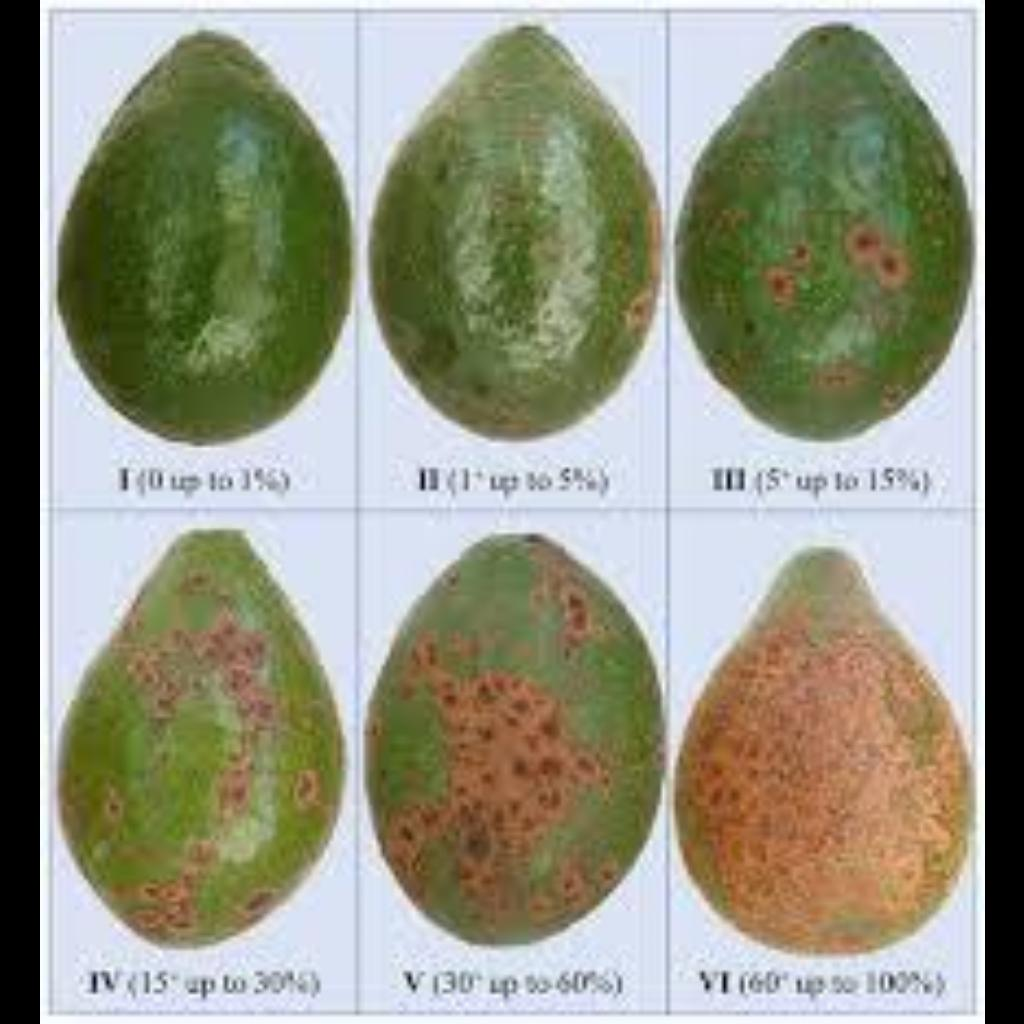cercospora_spot: (676, 42, 982, 426), (61, 516, 319, 958), (378, 536, 650, 938), (367, 62, 647, 424), (68, 64, 330, 418)
